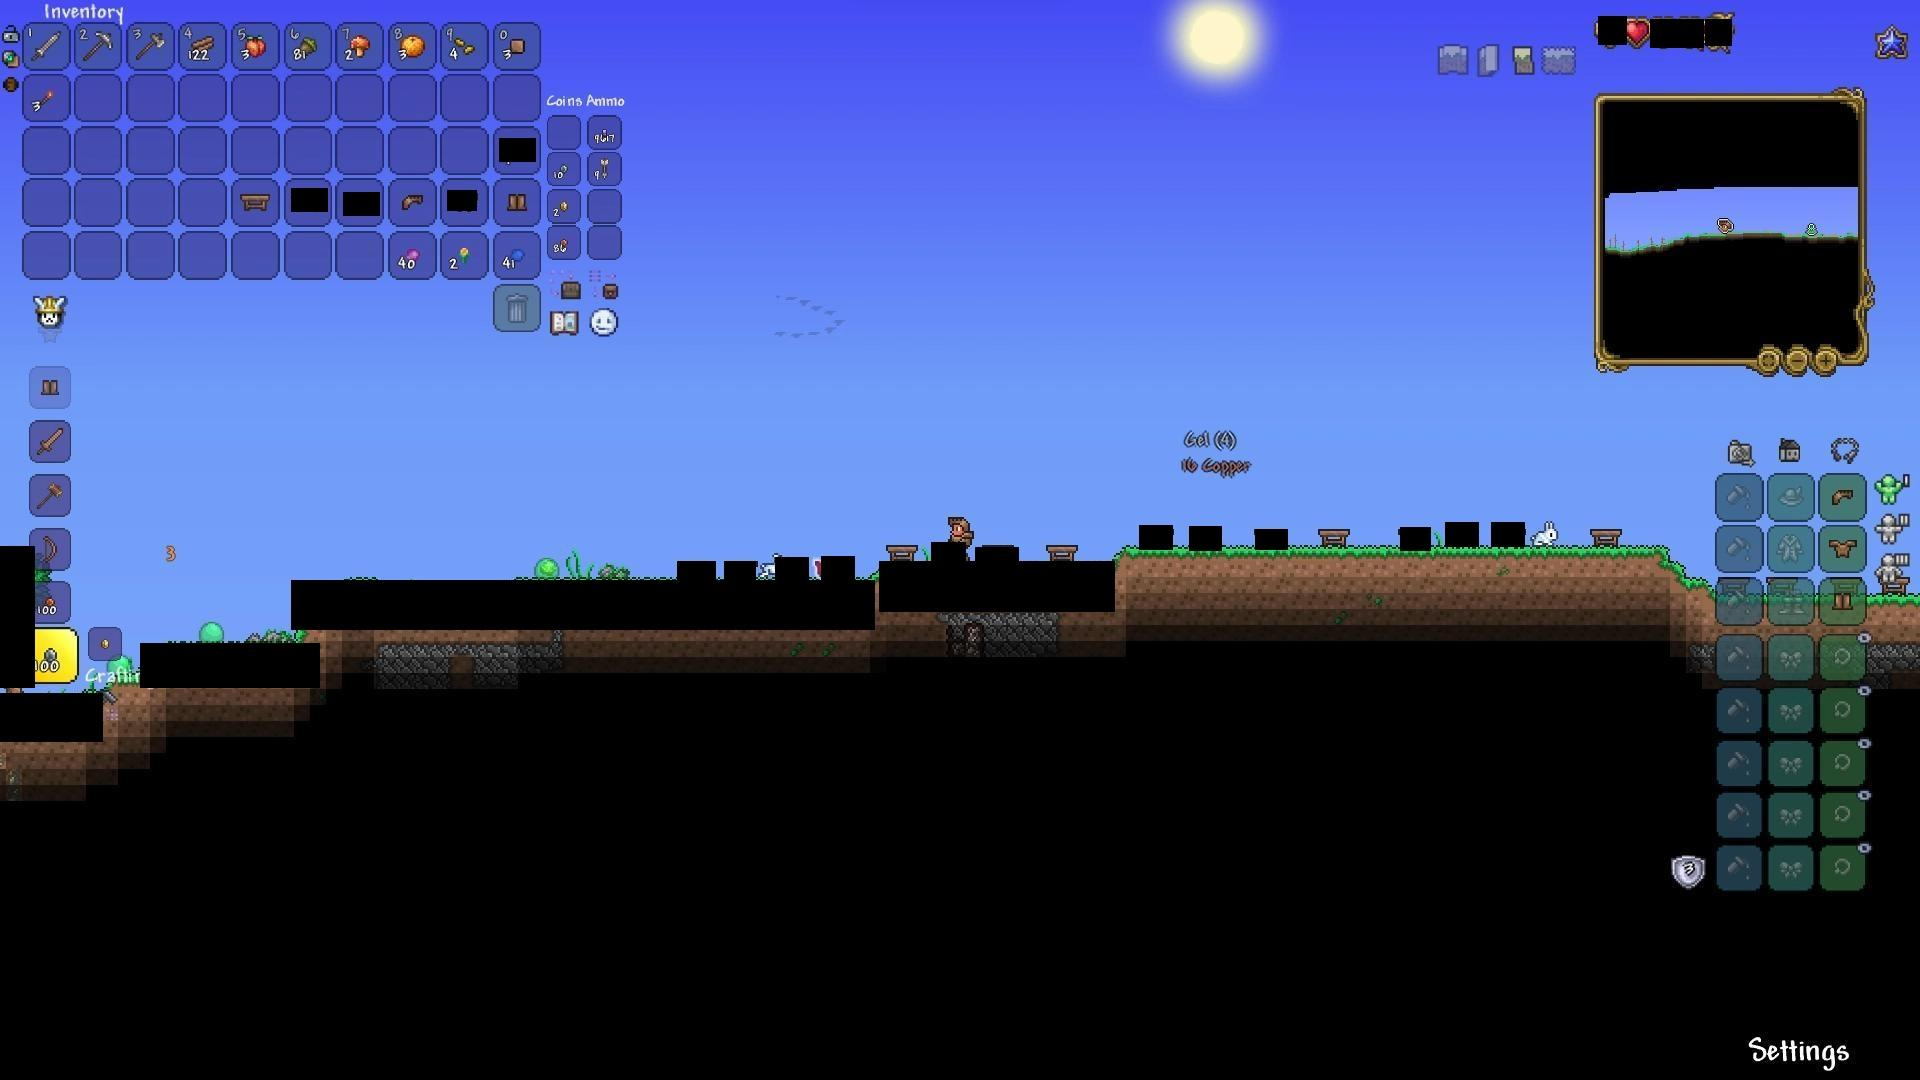breastplate: (1830, 537, 1859, 558)
dirt: (1117, 546, 1708, 597)
heart: (1626, 18, 1654, 47)
helmet: (400, 190, 429, 215), (1829, 484, 1857, 509)
legs: (37, 375, 63, 402), (505, 186, 530, 214), (1832, 585, 1857, 613)
slime: (530, 550, 563, 578), (199, 612, 231, 640)
wood: (189, 32, 218, 61)
workbench: (240, 190, 277, 214), (1589, 522, 1622, 546), (1046, 542, 1079, 566), (885, 545, 920, 566), (1316, 527, 1348, 550)
